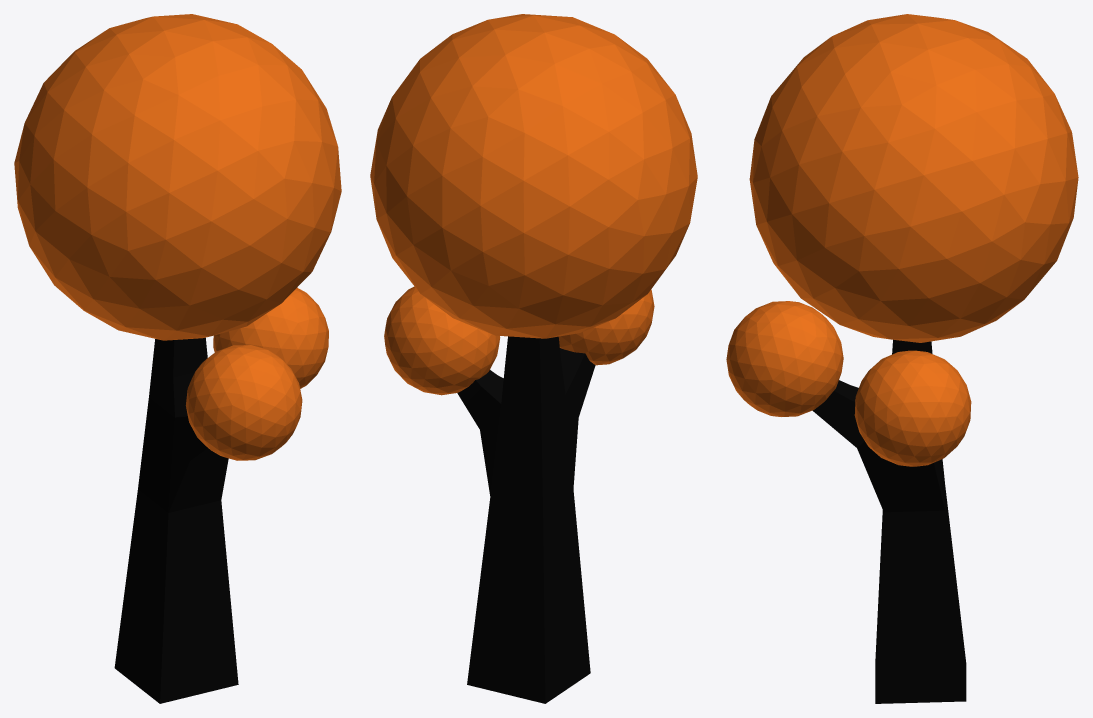
The model's file is HotTrees2.fbx.
3 renders of one model, left to right at view 1: azimuth 30°, elevation 25°; view 2: azimuth 150°, elevation 25°; view 3: azimuth 270°, elevation 25°, orthographic.
Parts seen in each view (by area): view 1: Icosphere.004, Cube.005, Icosphere.008, Icosphere.009; view 2: Icosphere.004, Cube.005, Icosphere.009, Icosphere.008; view 3: Icosphere.004, Cube.005, Icosphere.009, Icosphere.008.
Boxes of the visible parts, left/top/right/bottom form: Icosphere.004: left=14, top=14, right=341, bottom=340; Cube.005: left=114, top=337, right=238, bottom=703; Icosphere.008: left=185, top=345, right=302, bottom=460; Icosphere.009: left=213, top=287, right=328, bottom=388; Icosphere.004: left=370, top=14, right=697, bottom=338; Cube.005: left=457, top=336, right=595, bottom=703; Icosphere.009: left=384, top=286, right=500, bottom=395; Icosphere.008: left=558, top=289, right=654, bottom=365; Icosphere.004: left=749, top=14, right=1078, bottom=342; Cube.005: left=812, top=339, right=966, bottom=703; Icosphere.009: left=854, top=350, right=971, bottom=466; Icosphere.008: left=726, top=301, right=843, bottom=416.
Size of the model in its own units: 1.52 by 3.33 by 1.62.
